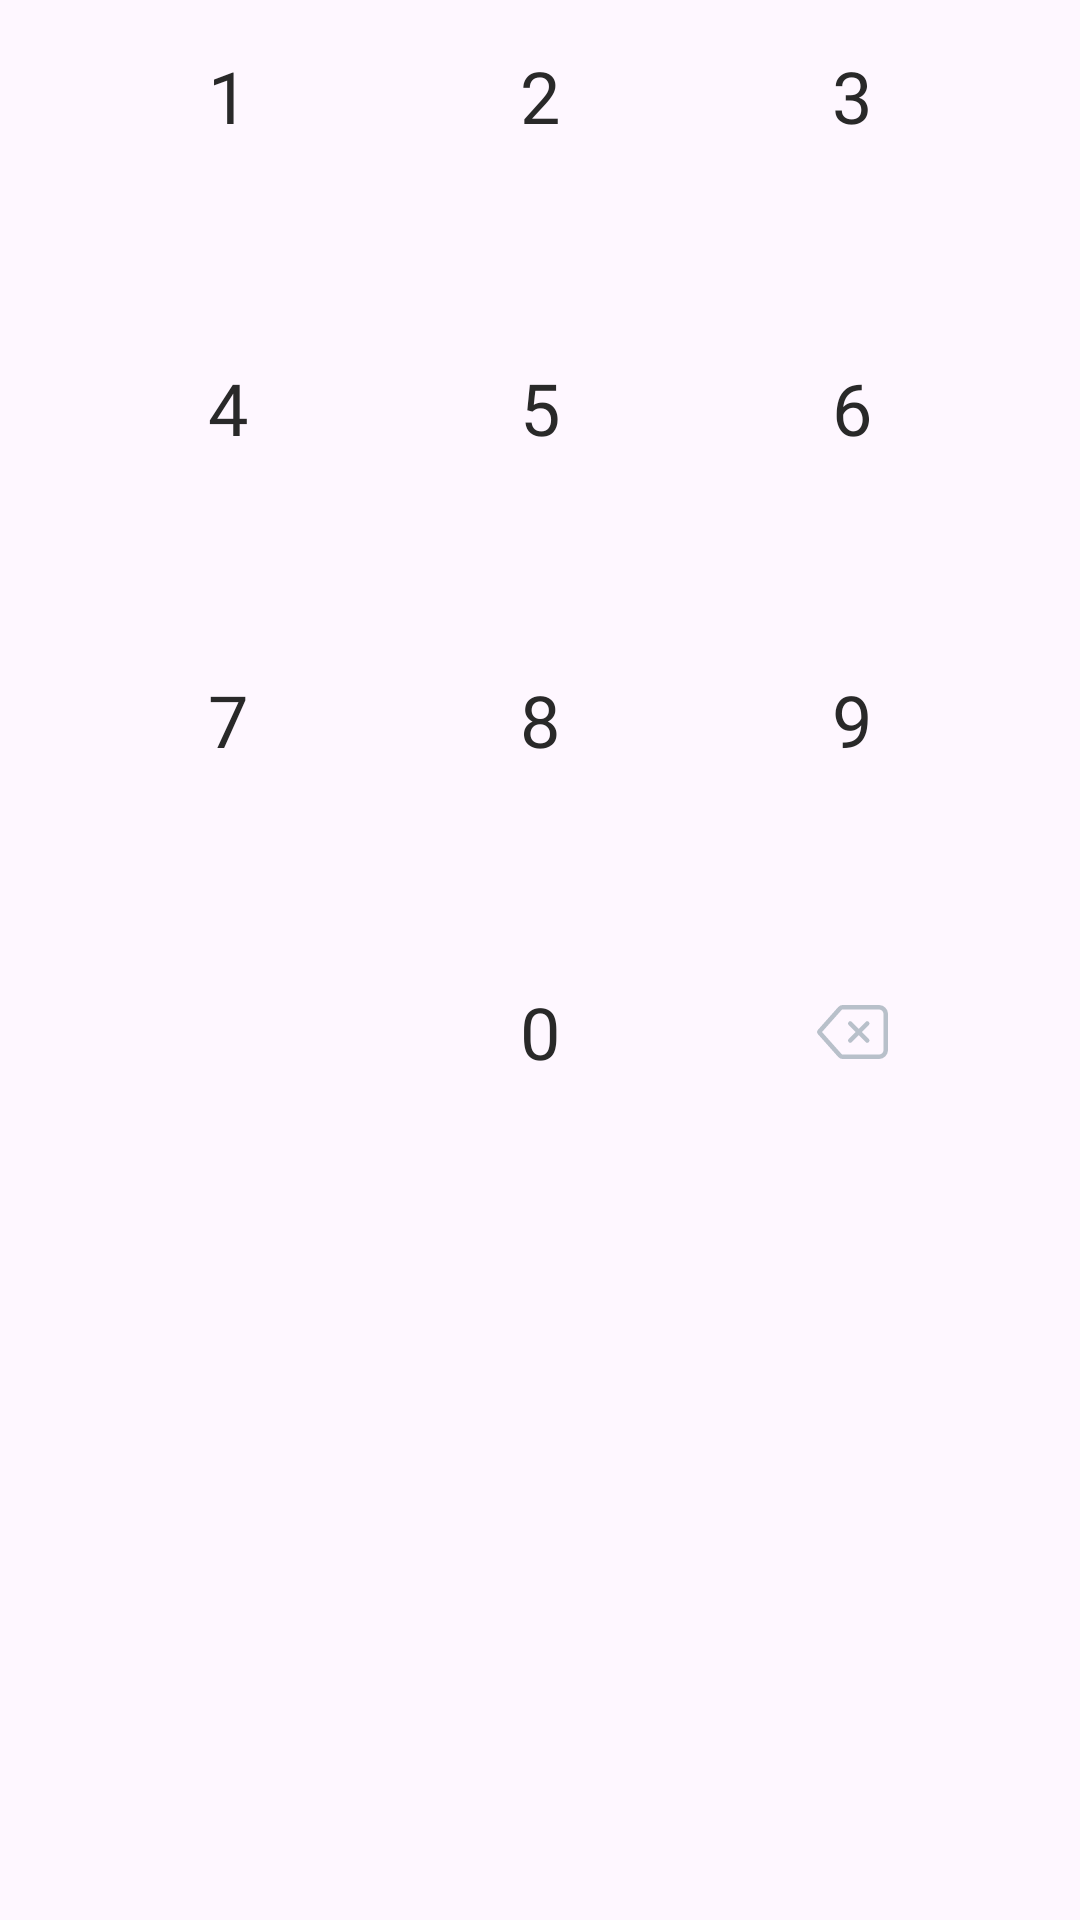

Icons on this 1080px×1920px Android screen, each with its box as (x1, y1, x2, y2):
del: (817, 1005, 888, 1059)
